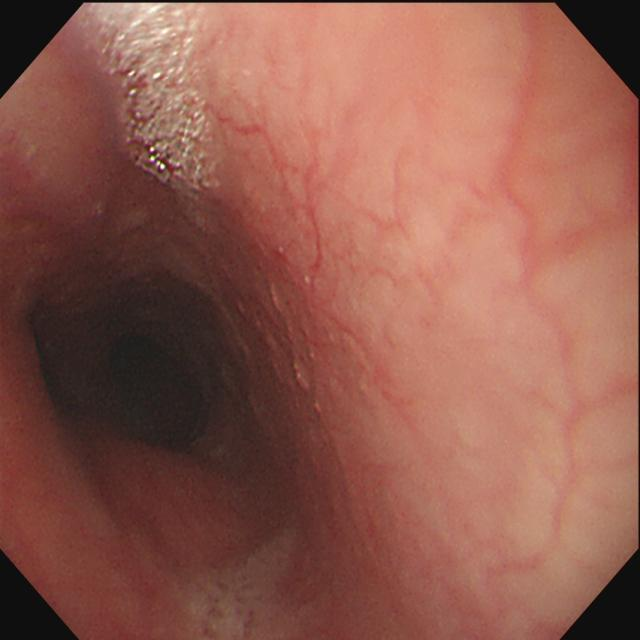E: (38, 307, 217, 446)
T: (88, 2, 229, 198), (184, 528, 305, 640)
